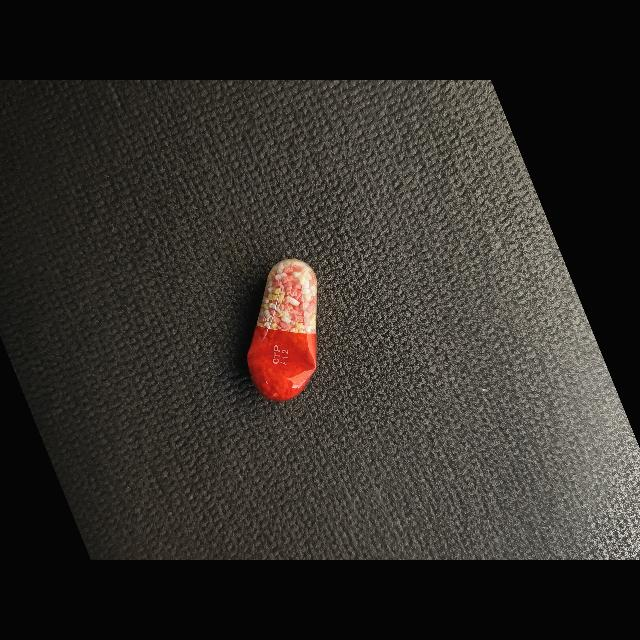Defective Capsule: (247, 258, 317, 401)
